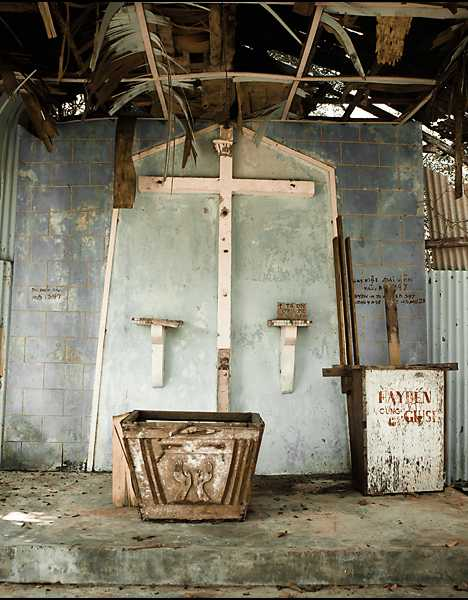Church: (118, 129, 347, 450)
